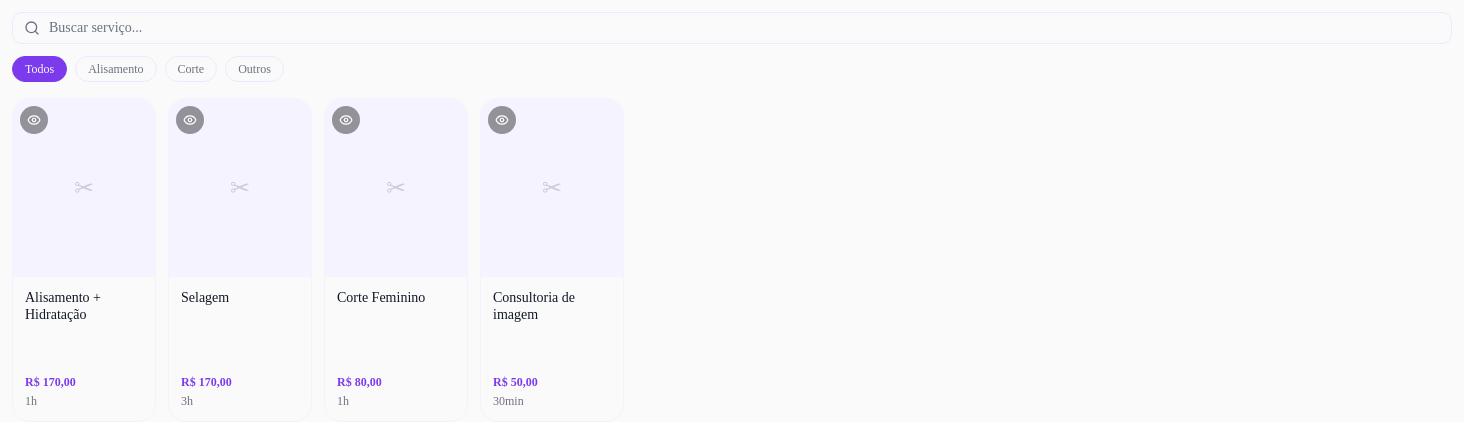
Test: ServicePickerWithCategories › chip "Outros" mostra apenas serviços sem categoria
The image size is (1464, 422).
Click the button "Outros" at (255, 69), box x1=225 y1=56 x2=284 y2=82
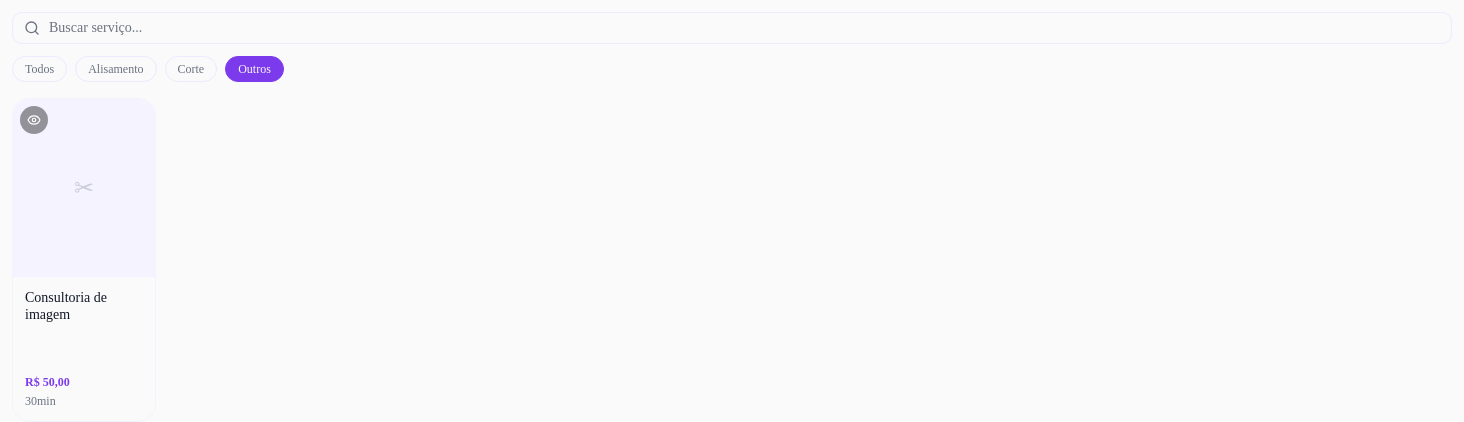
expect the text "Consultoria de imagem" is shown: met, box x1=25 y1=290 x2=107 y2=322
expect the button "Corte Feminino" is gone: met
